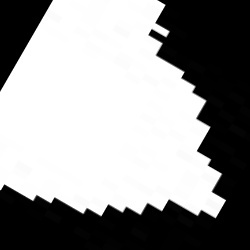spot: (2, 2, 228, 217)
